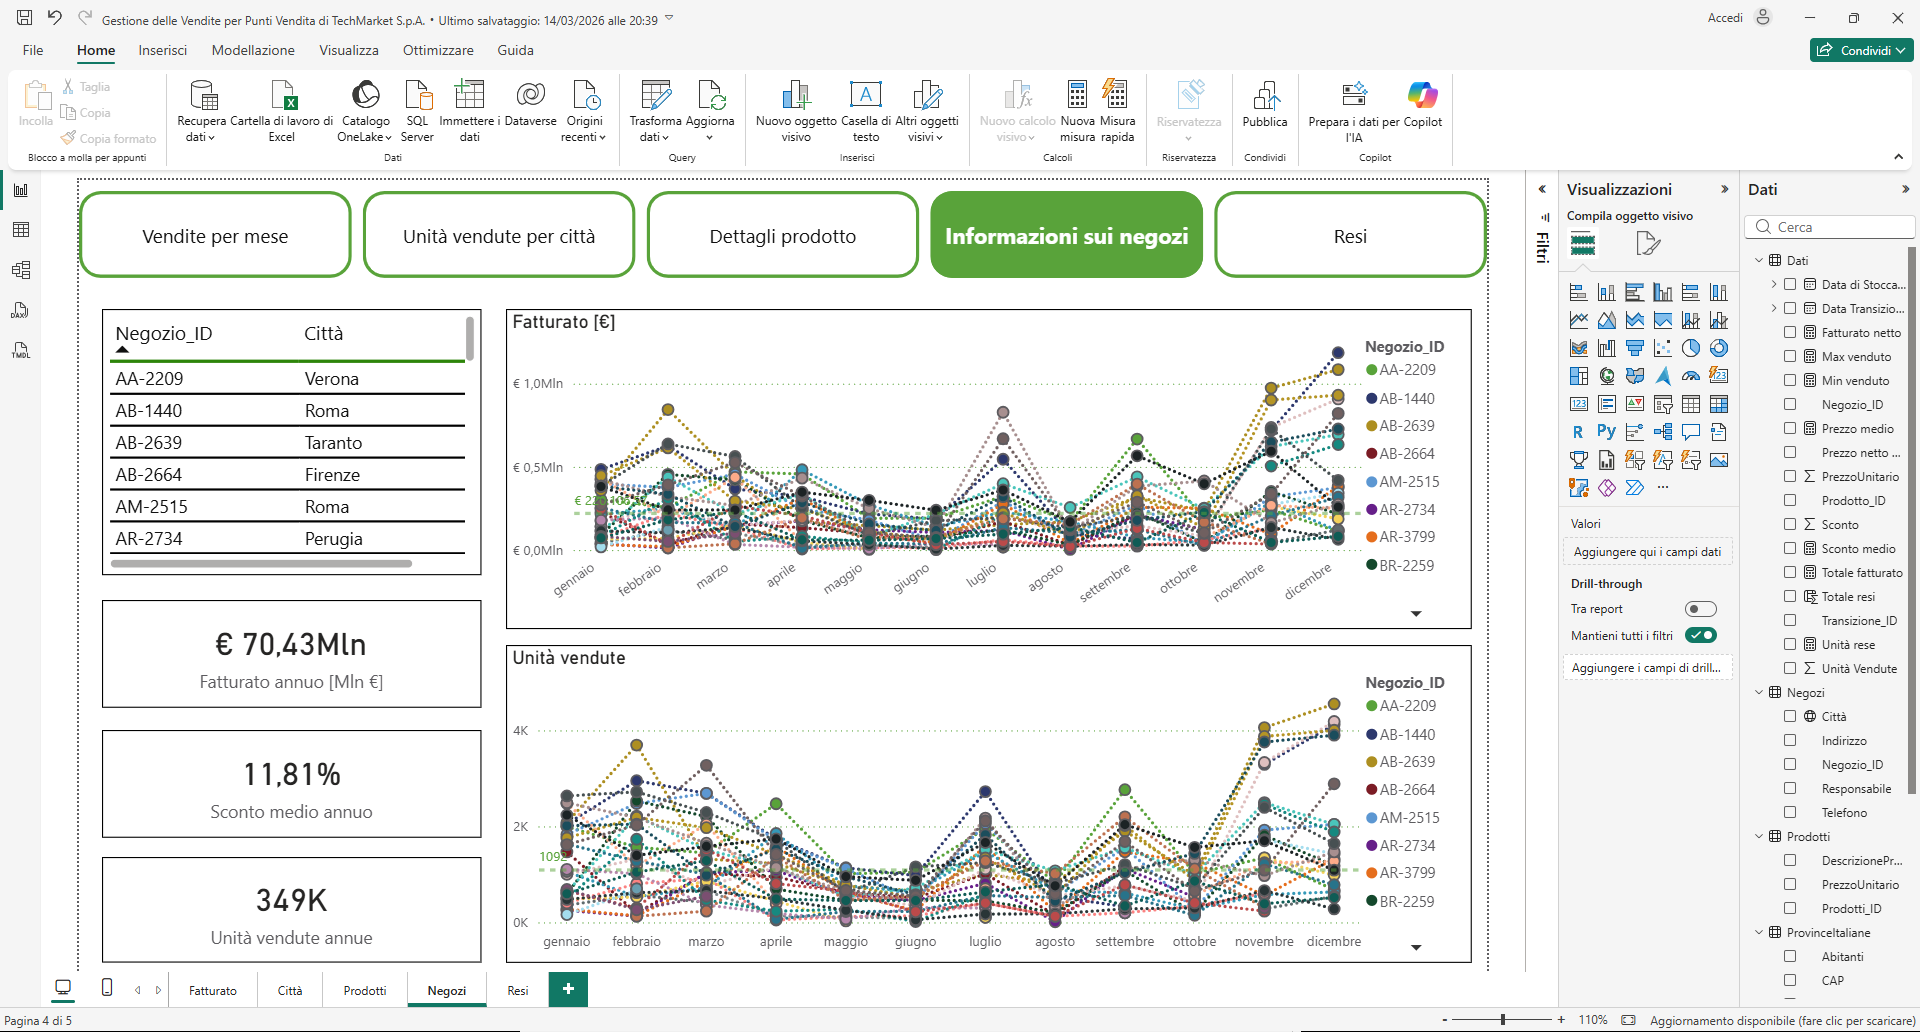

Layout of this report page (visuals, bound fields, positions):
{"tool":"powerbi","page":{"name":"Negozi","canvas":[1280,720],"ordinal":3},"visuals":[{"type":"tableEx","fields":{"Values":["Negozi.Negozio_ID","Negozi.Città"]},"box":[20.9,116.9,345,242.1],"z":0},{"type":"lineChart","title":"Fatturato [€]","fields":{"Category":["Dati.Data Transizione.Variazione.Gerarchia data.Mese"],"Series":["Negozi.Negozio_ID"],"Y":["Dati.Totale fatturato"]},"box":[388.4,116.9,877.9,290.8],"z":1000},{"type":"lineChart","title":"Unità vendute","fields":{"Category":["Dati.Data Transizione.Variazione.Gerarchia data.Mese"],"Series":["Negozi.Negozio_ID"],"Y":["Sum(Dati.Unità Vendute)"]},"box":[388.1,422.9,878.2,288.6],"z":2000},{"type":"card","fields":{"Values":["Dati.Totale fatturato"]},"box":[20.9,381.9,344.6,98.3],"z":3000},{"type":"card","fields":{"Values":["Dati.Sconto medio"]},"box":[20.9,500.1,344.6,98.3],"z":4000},{"type":"card","fields":{"Values":["Sum(Dati.Unità Vendute)"]},"box":[20.9,615.8,344.6,95.8],"z":5000},{"type":"bookmarkNavigator","box":[0,9.7,1280,79.3],"z":6000}]}

Visuals, with their boxes on the page's 1280x720 design canvas (x1, y1, x2, y2). These are canvas units, not pixel positions in the 1920x1032 screenshot, which may show the page scaled, cropped or inside an application window:
tableEx - Negozi.Negozio_ID x Negozi.Città: {"x1": 21, "y1": 117, "x2": 366, "y2": 359}
"Fatturato [€]" lineChart: {"x1": 388, "y1": 117, "x2": 1266, "y2": 408}
"Unità vendute" lineChart: {"x1": 388, "y1": 423, "x2": 1266, "y2": 712}
card - Dati.Totale fatturato: {"x1": 21, "y1": 382, "x2": 366, "y2": 480}
card - Dati.Sconto medio: {"x1": 21, "y1": 500, "x2": 366, "y2": 598}
card - Sum(Dati.Unità Vendute): {"x1": 21, "y1": 616, "x2": 366, "y2": 712}
bookmarkNavigator: {"x1": 0, "y1": 10, "x2": 1280, "y2": 89}
